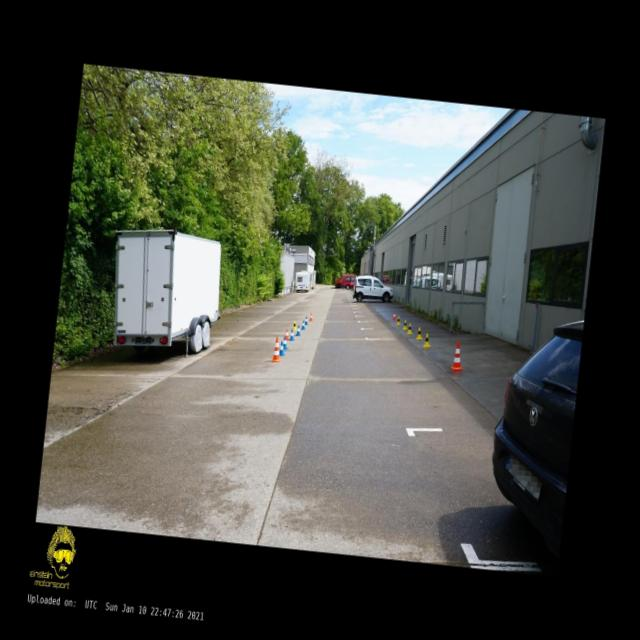blue_cone: (279, 341, 285, 355), (282, 336, 288, 349), (300, 320, 306, 329), (290, 328, 294, 341), (296, 325, 301, 335), (304, 316, 308, 324)
large_orange_cone: (450, 341, 464, 371), (271, 336, 282, 362)
orange_cone: (285, 328, 290, 339), (392, 312, 396, 319), (309, 314, 313, 320)
yellow_cone: (423, 333, 431, 347), (416, 327, 422, 340), (407, 323, 412, 334), (402, 320, 407, 330), (292, 320, 296, 330), (396, 316, 400, 325)
